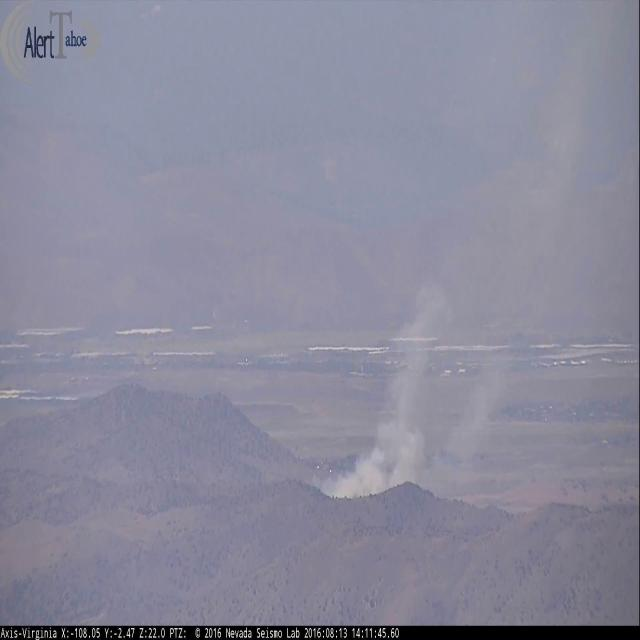smoke: (444, 0, 613, 268), (312, 276, 513, 500)
